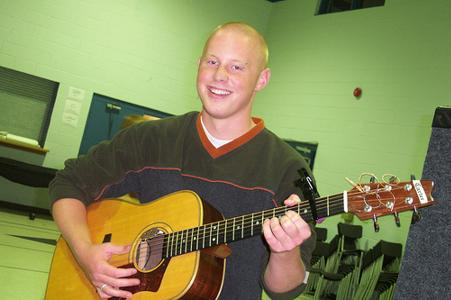person: (50, 23, 319, 300)
